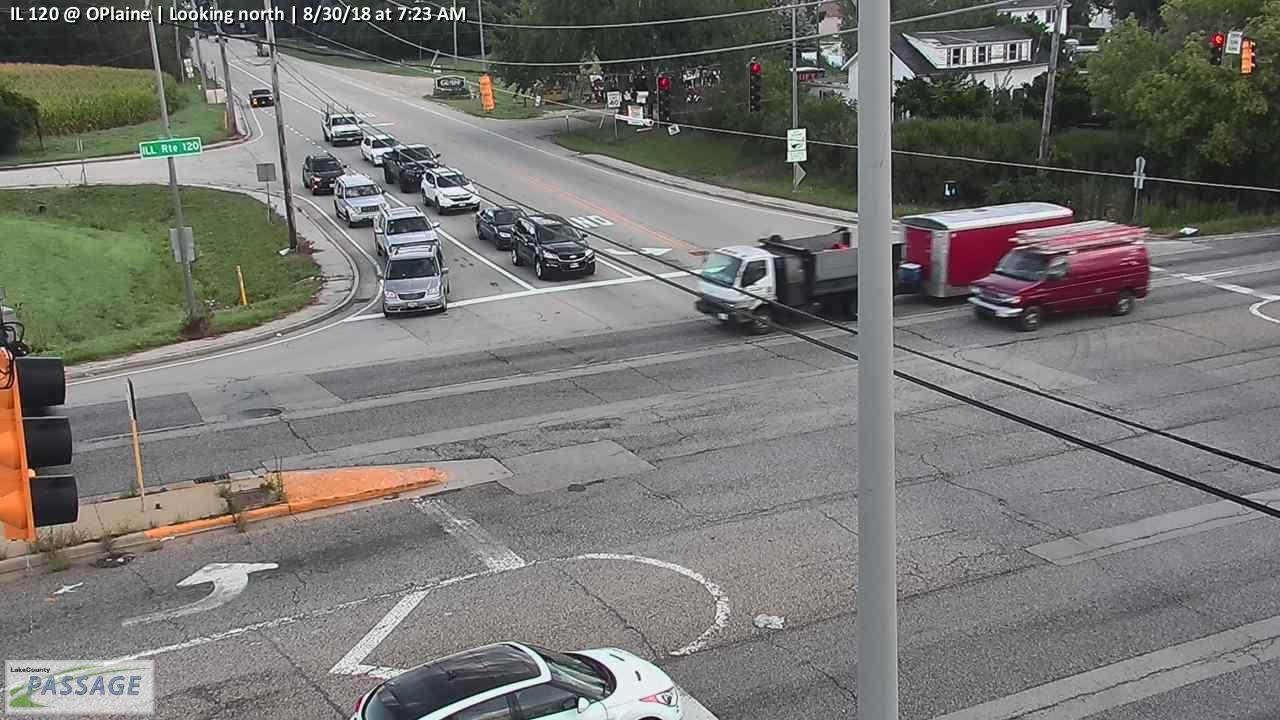SUV: (966, 219, 1156, 332), (380, 243, 449, 319), (372, 205, 443, 258), (333, 173, 391, 228), (420, 167, 481, 216), (301, 152, 346, 196)
Sedan: (475, 204, 525, 251), (360, 132, 399, 164), (248, 87, 275, 107)
Truck: (694, 192, 1075, 359), (382, 143, 439, 193), (320, 103, 364, 145)
